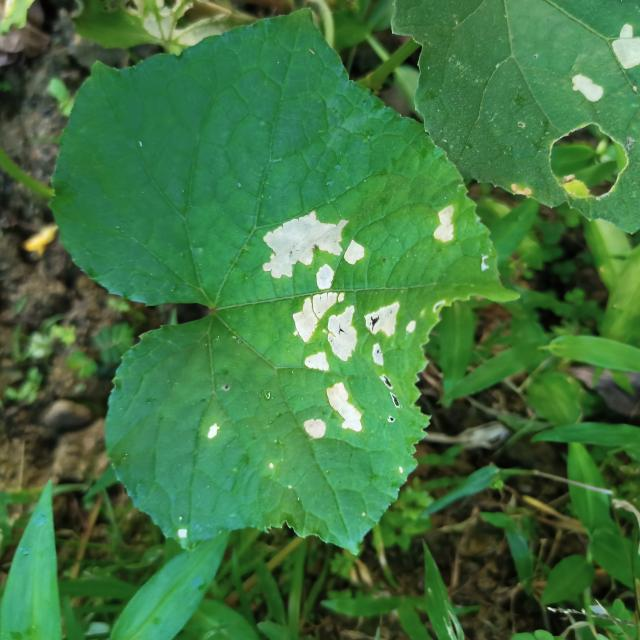disease_cucumber: (250, 204, 411, 453), (427, 198, 466, 272), (558, 70, 613, 114), (606, 16, 640, 75), (204, 419, 226, 444)
